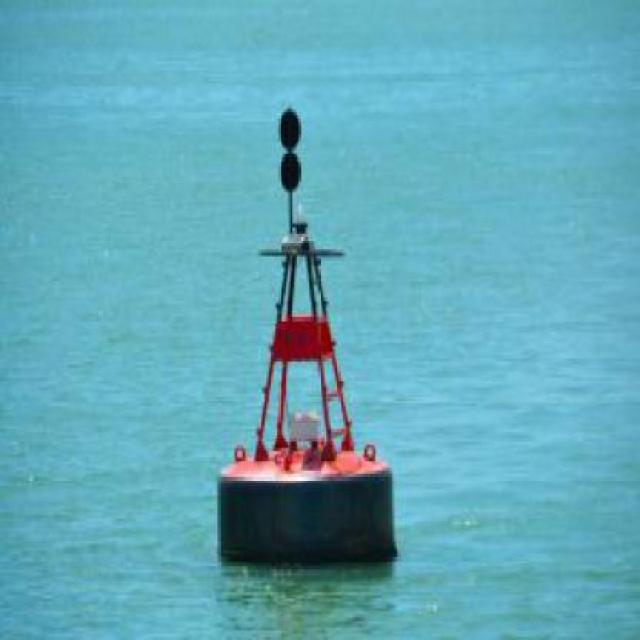buoy: (217, 97, 408, 574)
